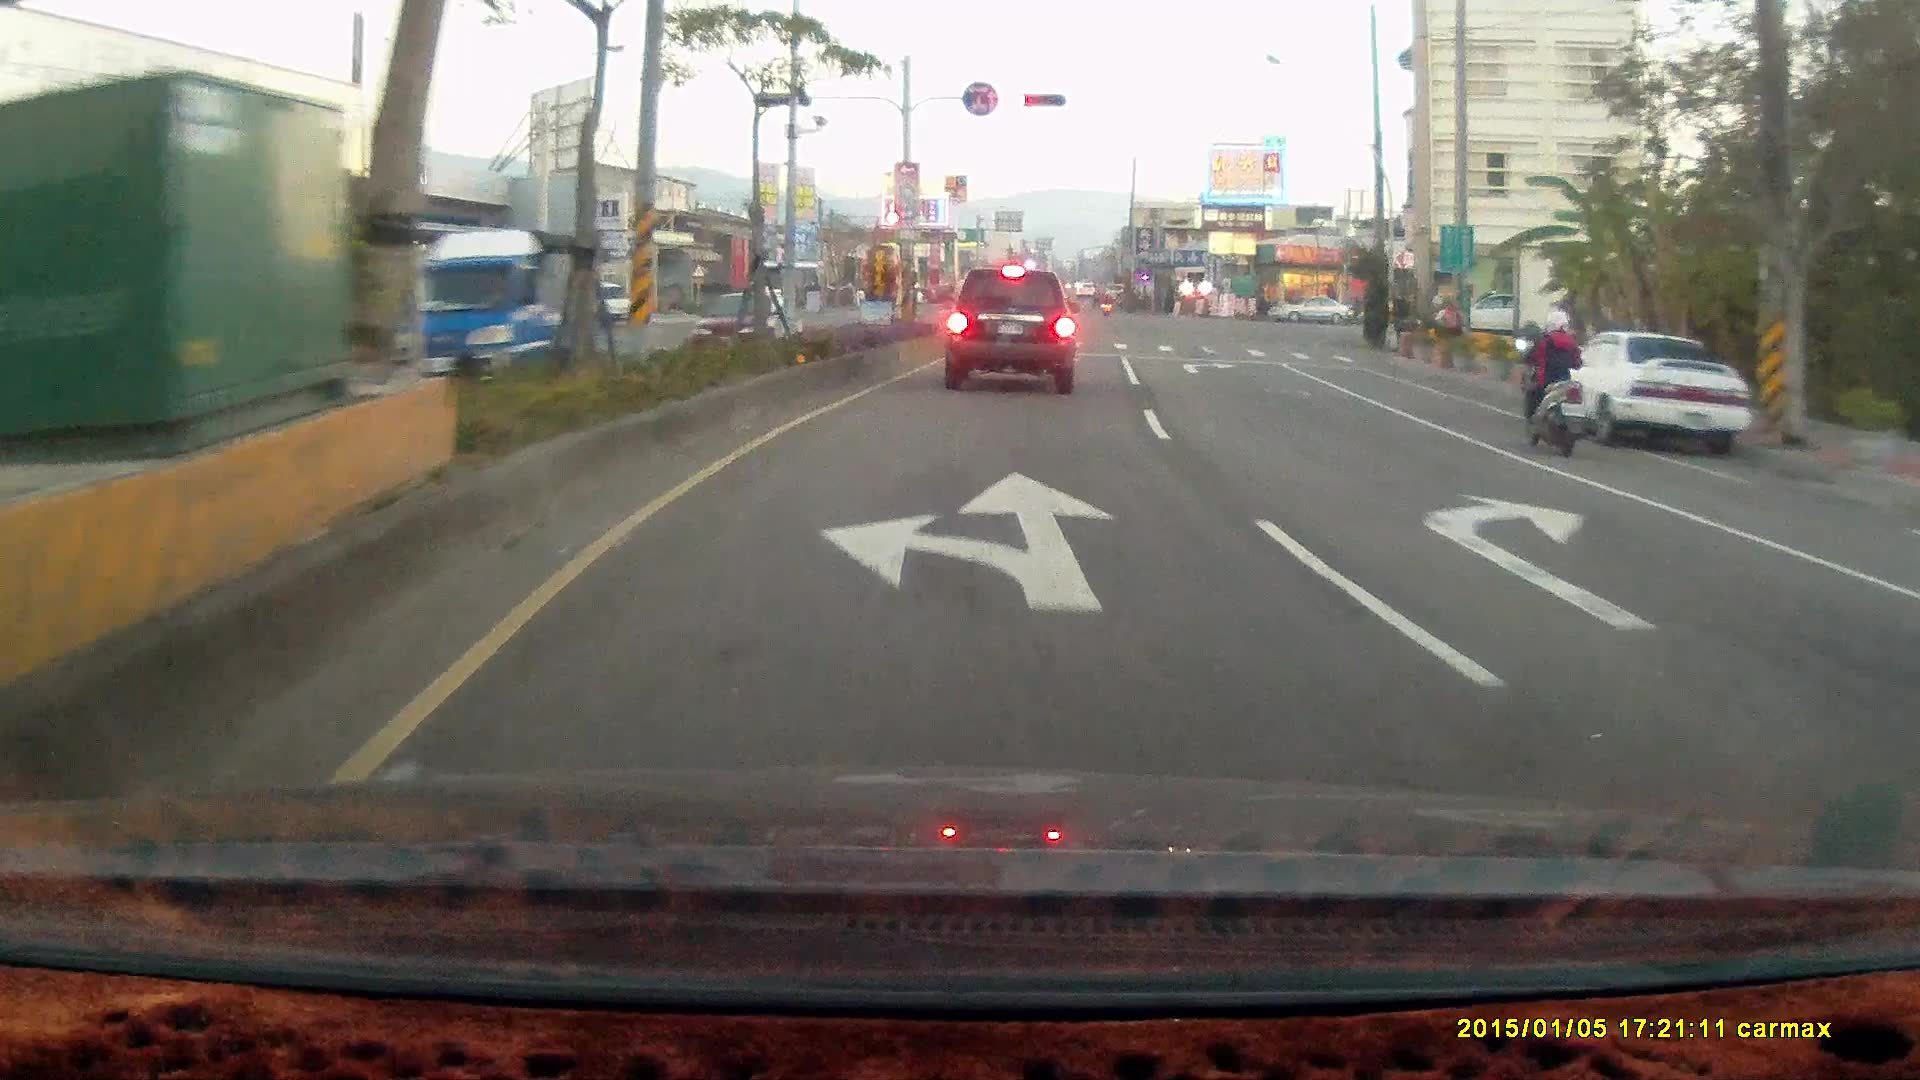rider: (1509, 307, 1589, 456), (1340, 293, 1371, 327)
vehicle: (379, 230, 609, 384), (1537, 327, 1754, 457), (1544, 328, 1759, 453), (942, 266, 1078, 394), (1896, 493, 1920, 836), (1883, 528, 1920, 690), (1437, 288, 1541, 336), (1266, 292, 1353, 325)
